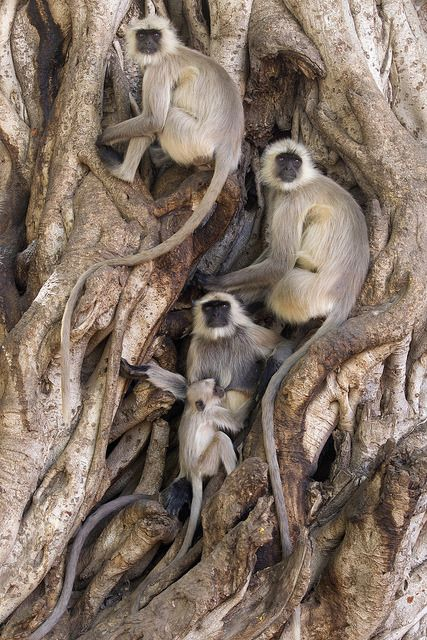monkey: (216, 139, 389, 577), (98, 16, 257, 287), (122, 298, 292, 524), (155, 381, 239, 550)
